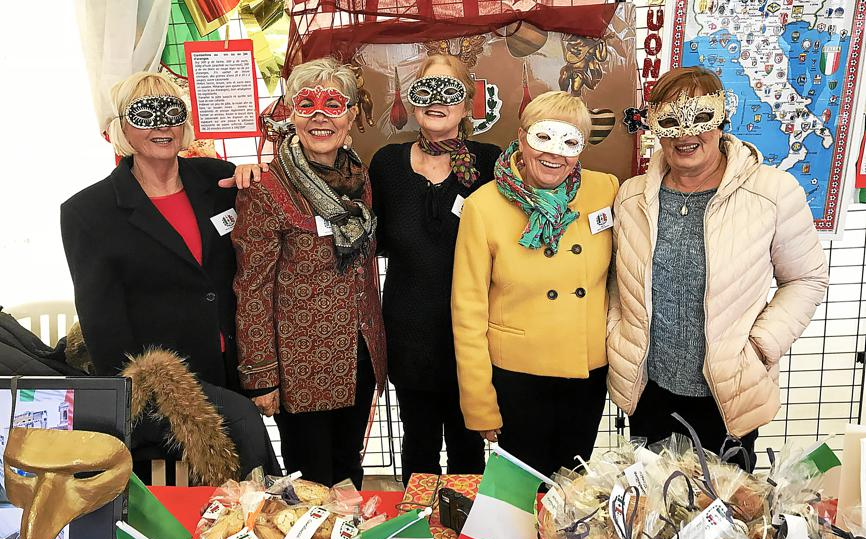without_mask: (652, 105, 721, 159), (132, 100, 186, 157), (529, 122, 578, 181), (295, 96, 346, 147), (416, 73, 458, 127)
